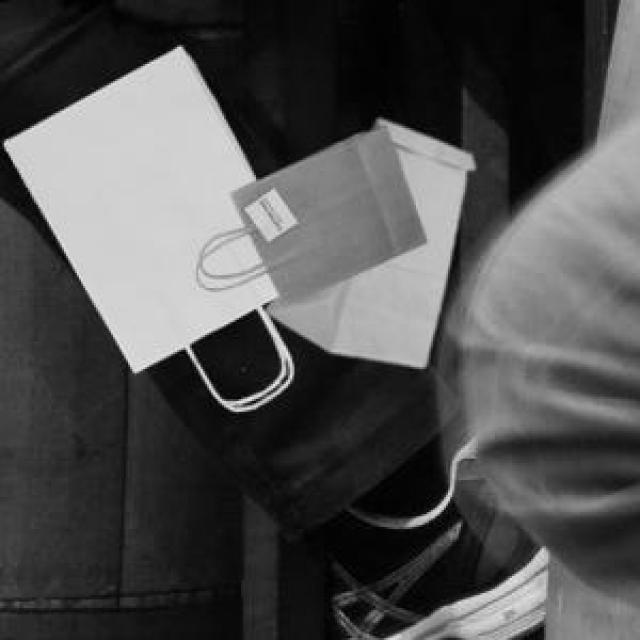paper: (0, 43, 290, 408), (262, 115, 469, 363), (226, 122, 422, 301)
